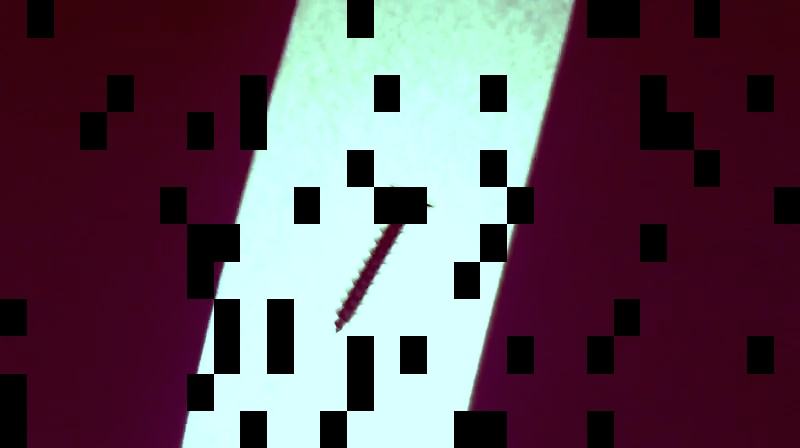S001: (329, 176, 439, 335)
